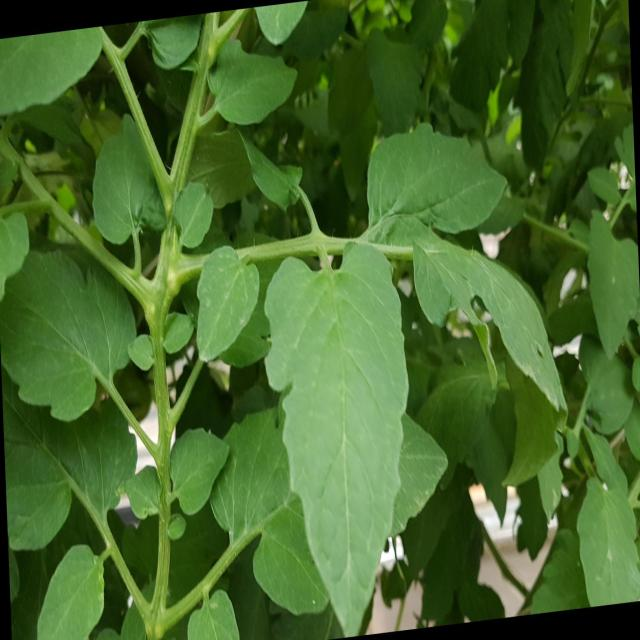Healthy Leaf: (261, 241, 413, 640), (1, 228, 142, 422), (91, 109, 169, 250), (204, 34, 308, 127), (587, 206, 640, 369), (195, 245, 265, 365), (32, 539, 109, 640), (170, 425, 232, 518), (173, 176, 215, 256)
